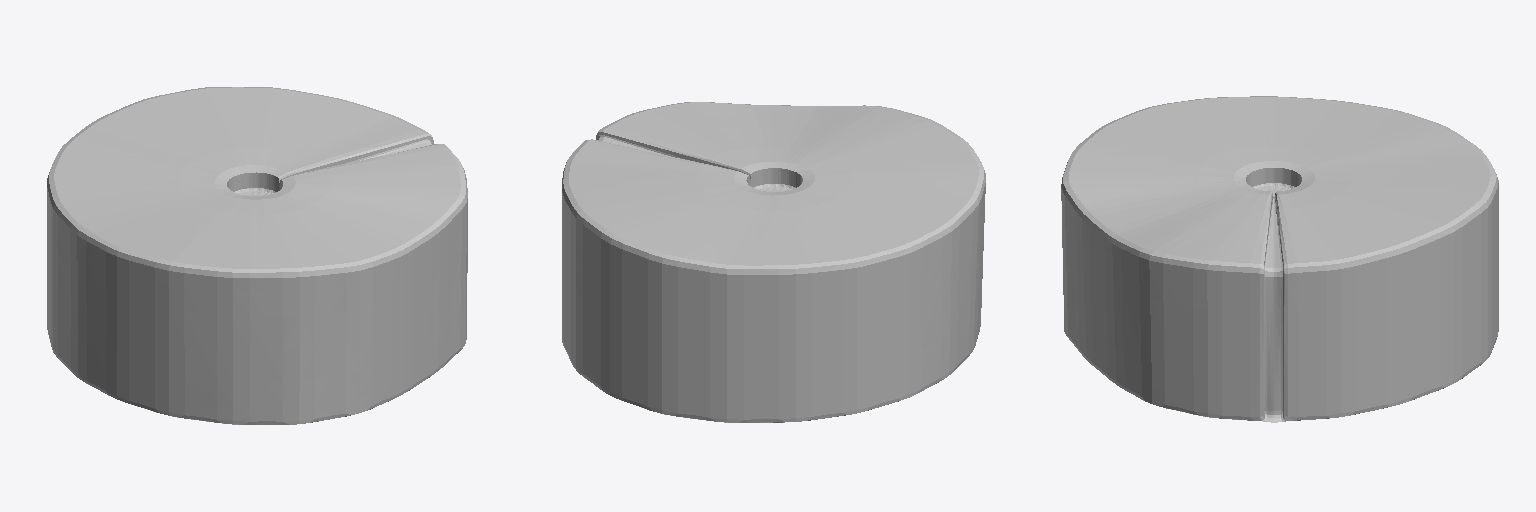
File: Sacrifice Alter.obj
3 views of the same model, side by side, from view 1: azimuth 30°, elevation 25°; view 2: azimuth 150°, elevation 25°; view 3: azimuth 270°, elevation 25° (orthographic).
Visible parts, largest first — view 1: pPipe1_pPipe1; view 2: pPipe1_pPipe1; view 3: pPipe1_pPipe1.
Part boxes in pixels (left/top/right/bottom): pPipe1_pPipe1: left=47, top=87, right=467, bottom=424; pPipe1_pPipe1: left=562, top=102, right=985, bottom=422; pPipe1_pPipe1: left=1061, top=96, right=1498, bottom=422.
Bounding box in the file's own units: 13.79 × 5.94 × 14.4.